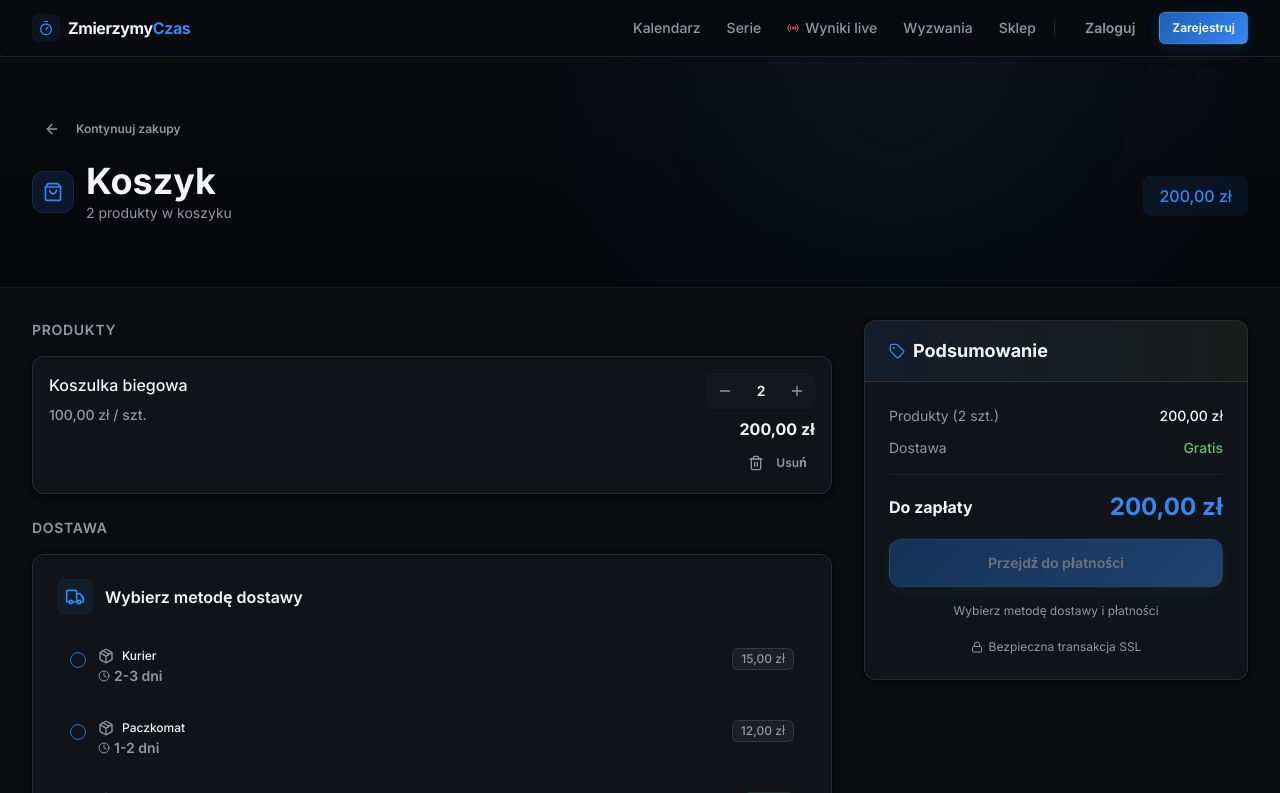
CartPage checkout › shows a visible error for a missing paczkomat number once touched
Click the text "Paczkomat". click: click(142, 728)
box: left=98, top=720, right=185, bottom=736
(page scrolled)
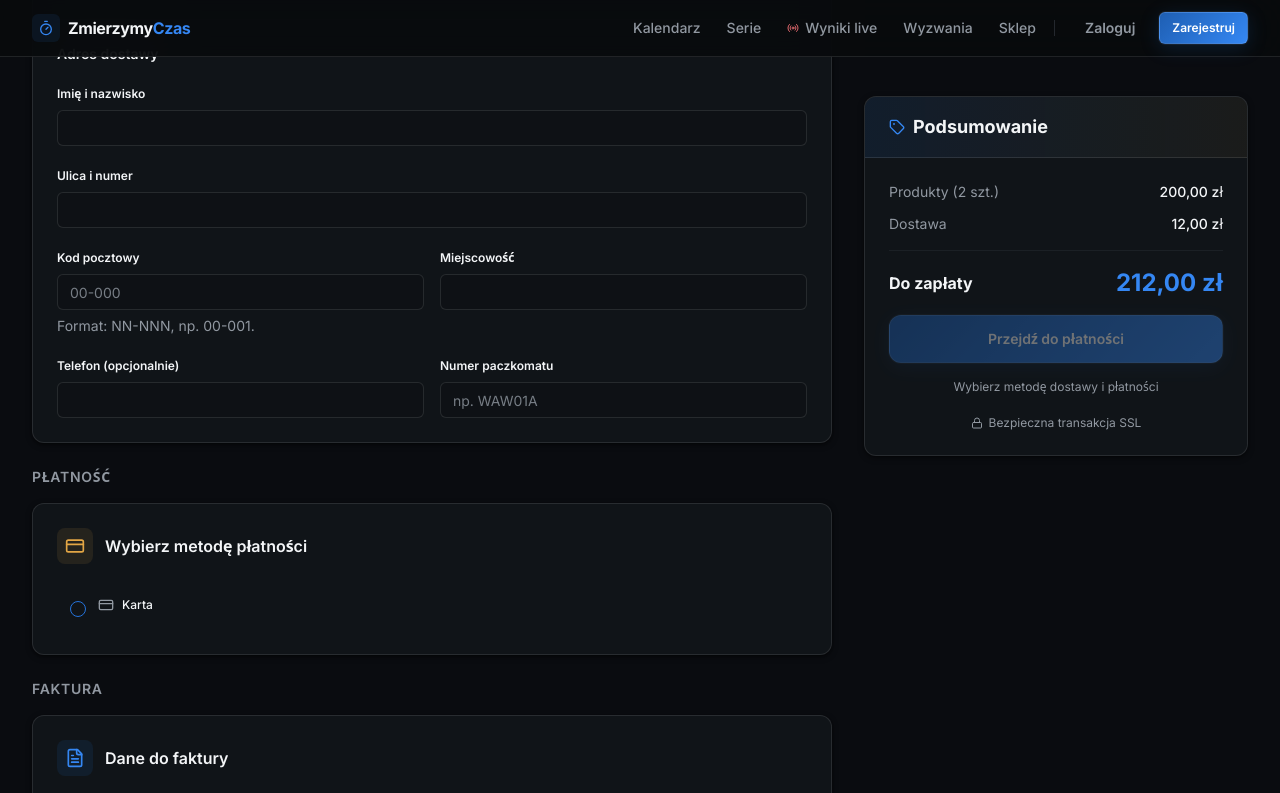
Click the field labelled "Numer paczkomatu". click: click(624, 400)
box: left=440, top=382, right=807, bottom=418
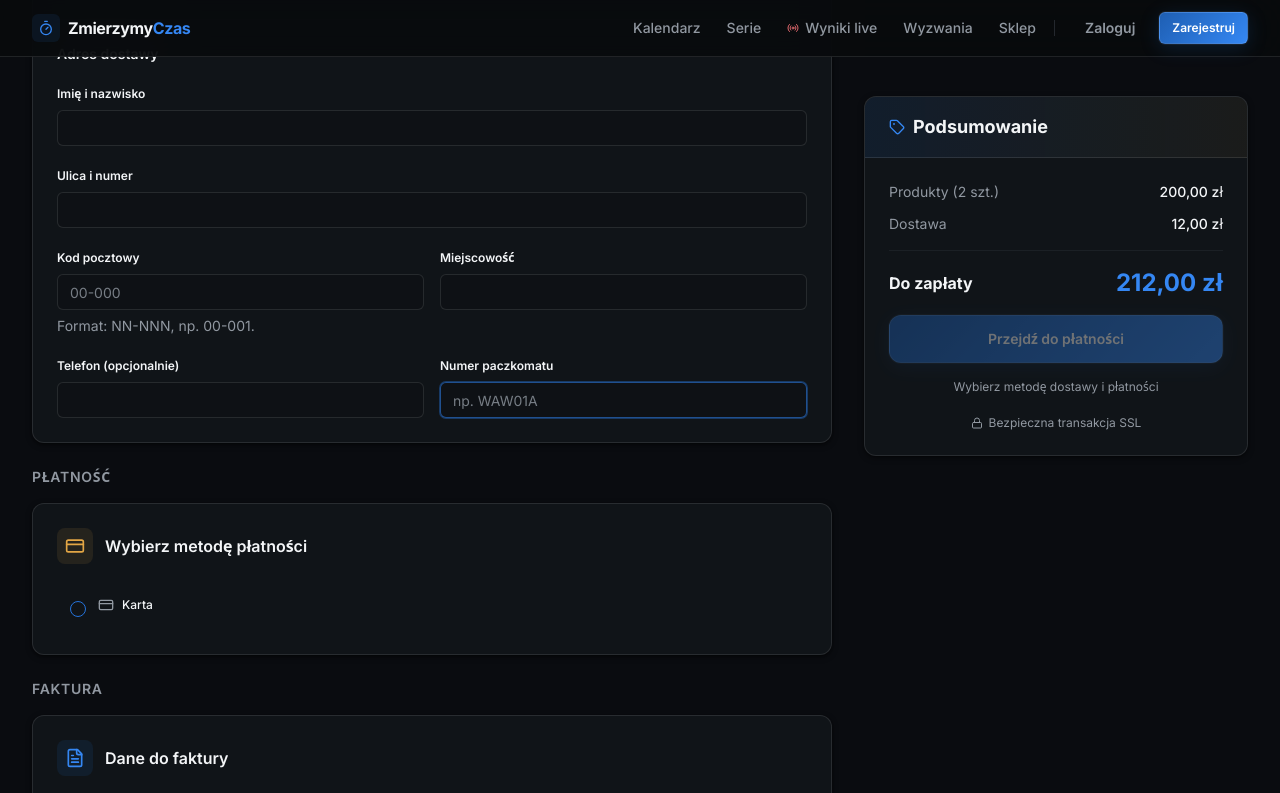
Press Tab
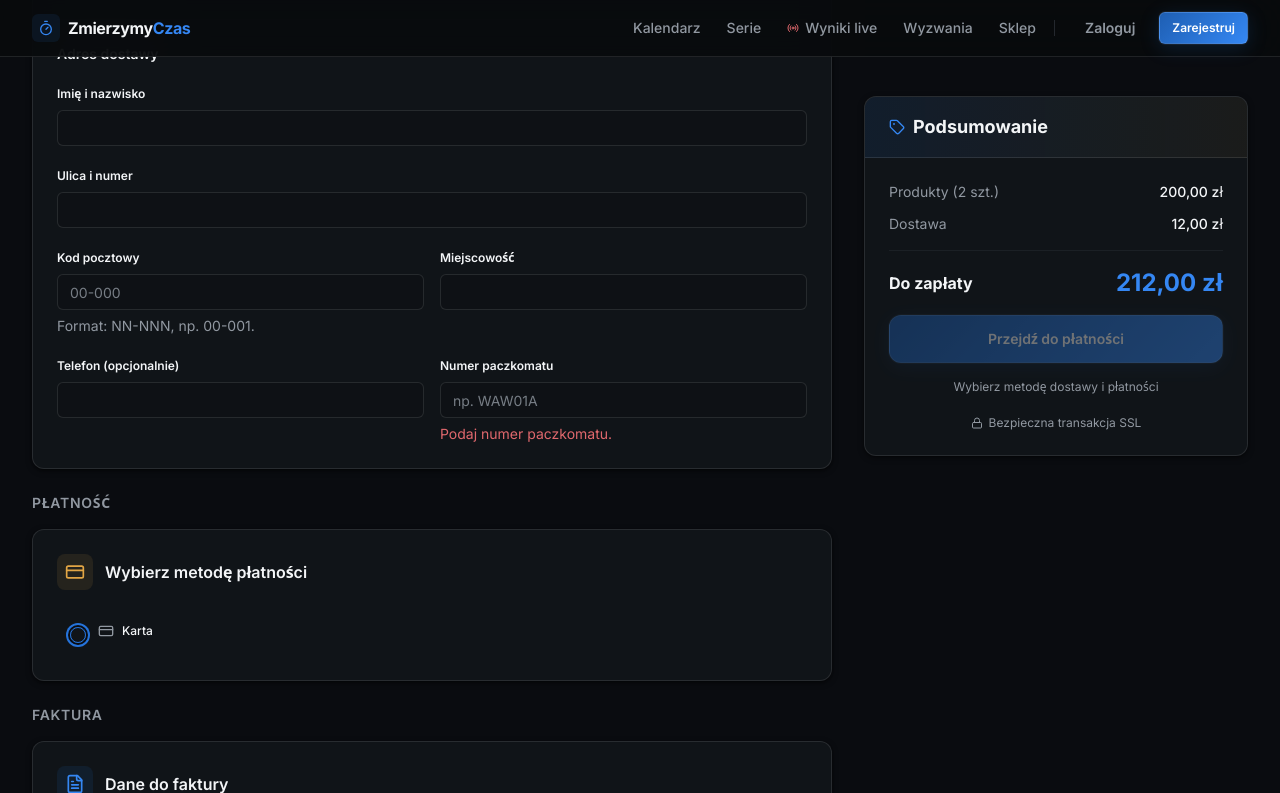
Now the text "Podaj numer paczkomatu." is shown, box left=440, top=425, right=612, bottom=442
